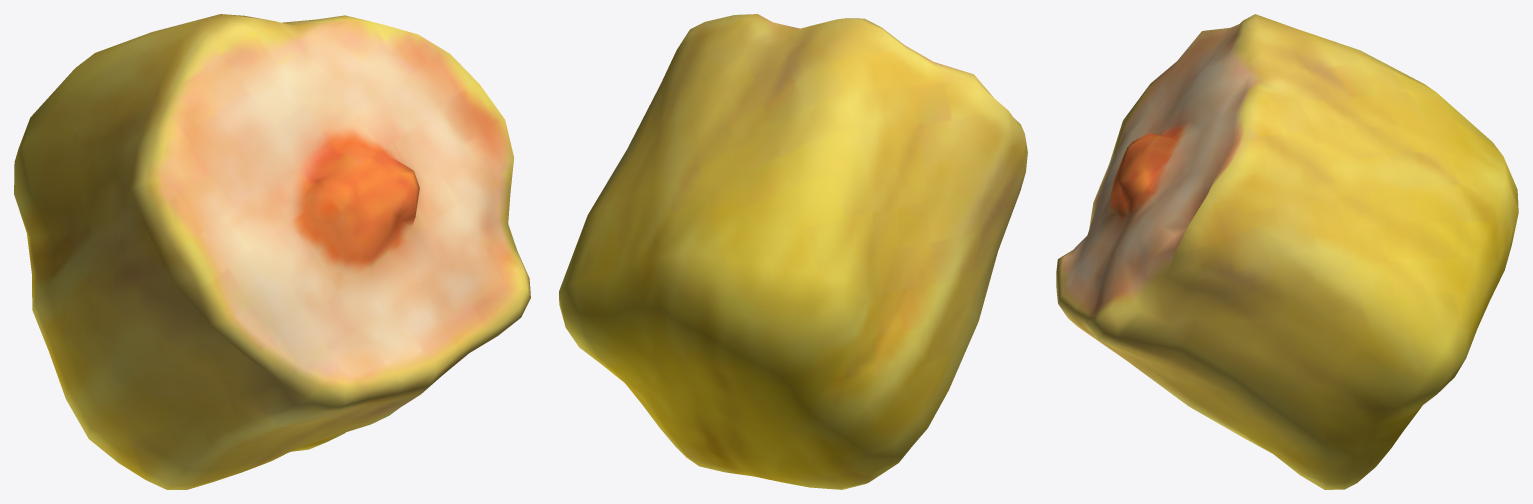
Rendered from BFShrimpShaoMai.obj.
The picture shows the model from 3 angles, left to right: view 1: azimuth 30°, elevation 25°; view 2: azimuth 150°, elevation 25°; view 3: azimuth 270°, elevation 25°; orthographic projection. The views are drawn at different scales.
Parts seen in each view (by area): view 1: XPshaoMai; view 2: XPshaoMai; view 3: XPshaoMai.
Boxes of the visible parts, x1=… form: XPshaoMai: x1=14, y1=14, x2=530, y2=489; XPshaoMai: x1=559, y1=14, x2=1027, y2=489; XPshaoMai: x1=1056, y1=14, x2=1518, y2=489.
Size of the model in its own units: 0.798 by 0.9999 by 1.
